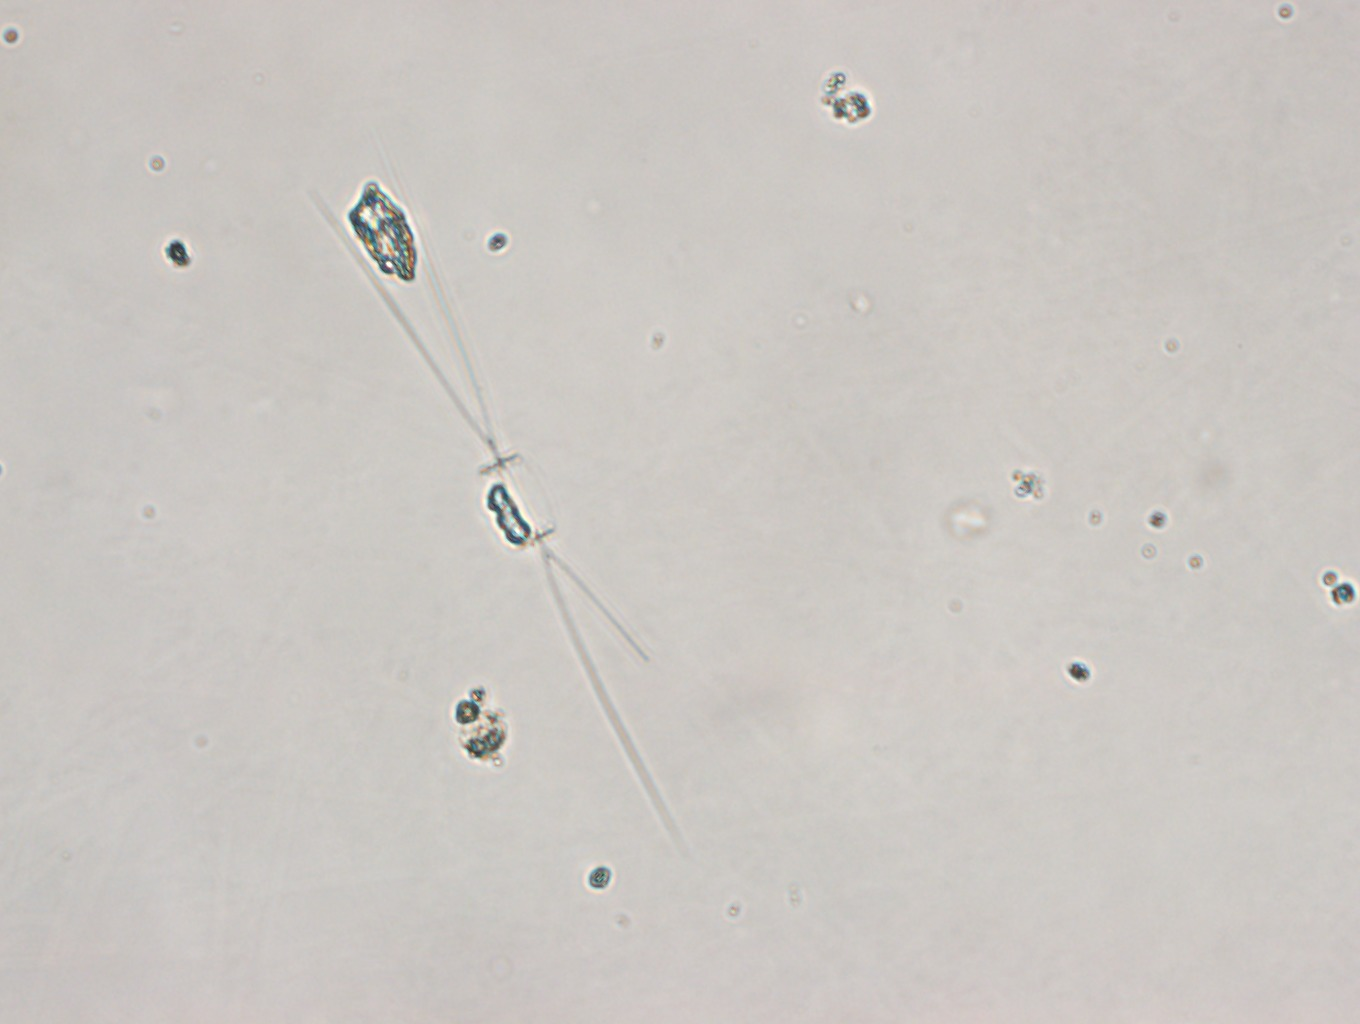chaetoceros: (321, 172, 700, 847)
